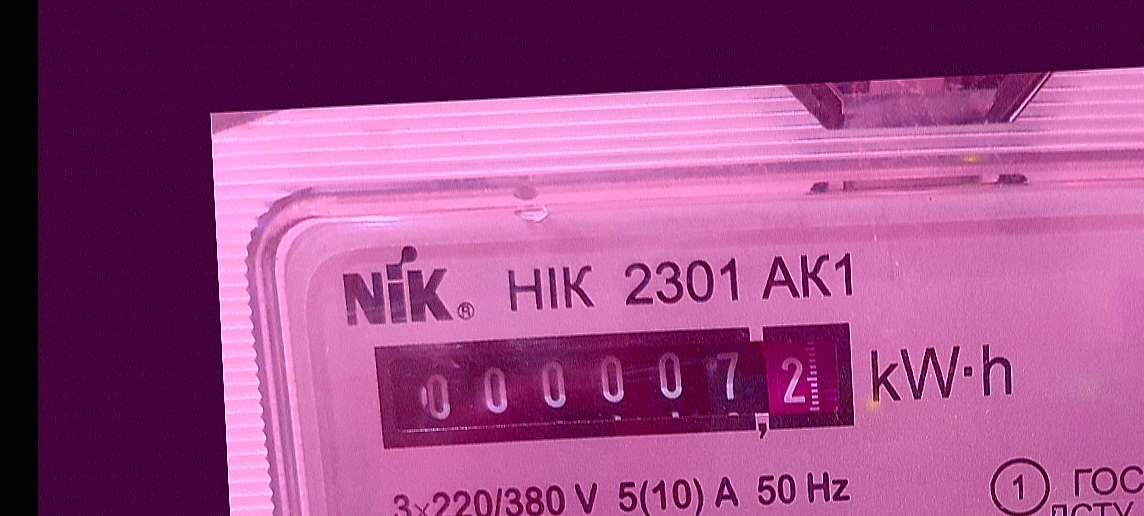0: (474, 360, 512, 414), (651, 347, 685, 401), (593, 349, 626, 404), (535, 355, 568, 409), (419, 368, 453, 420)
2: (774, 353, 807, 405)
7: (709, 346, 741, 402)
screen: (354, 301, 874, 468)
